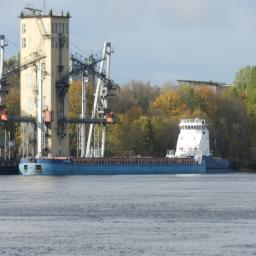tugboat: (18, 116, 232, 181)
